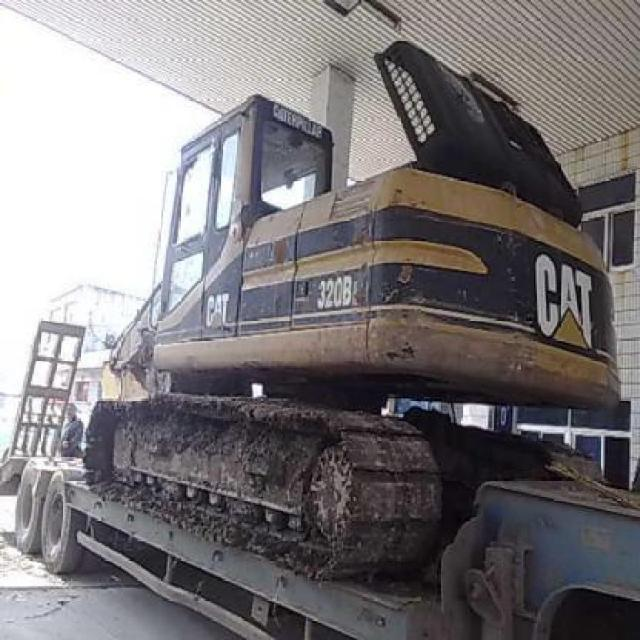excavator: (63, 36, 619, 582)
